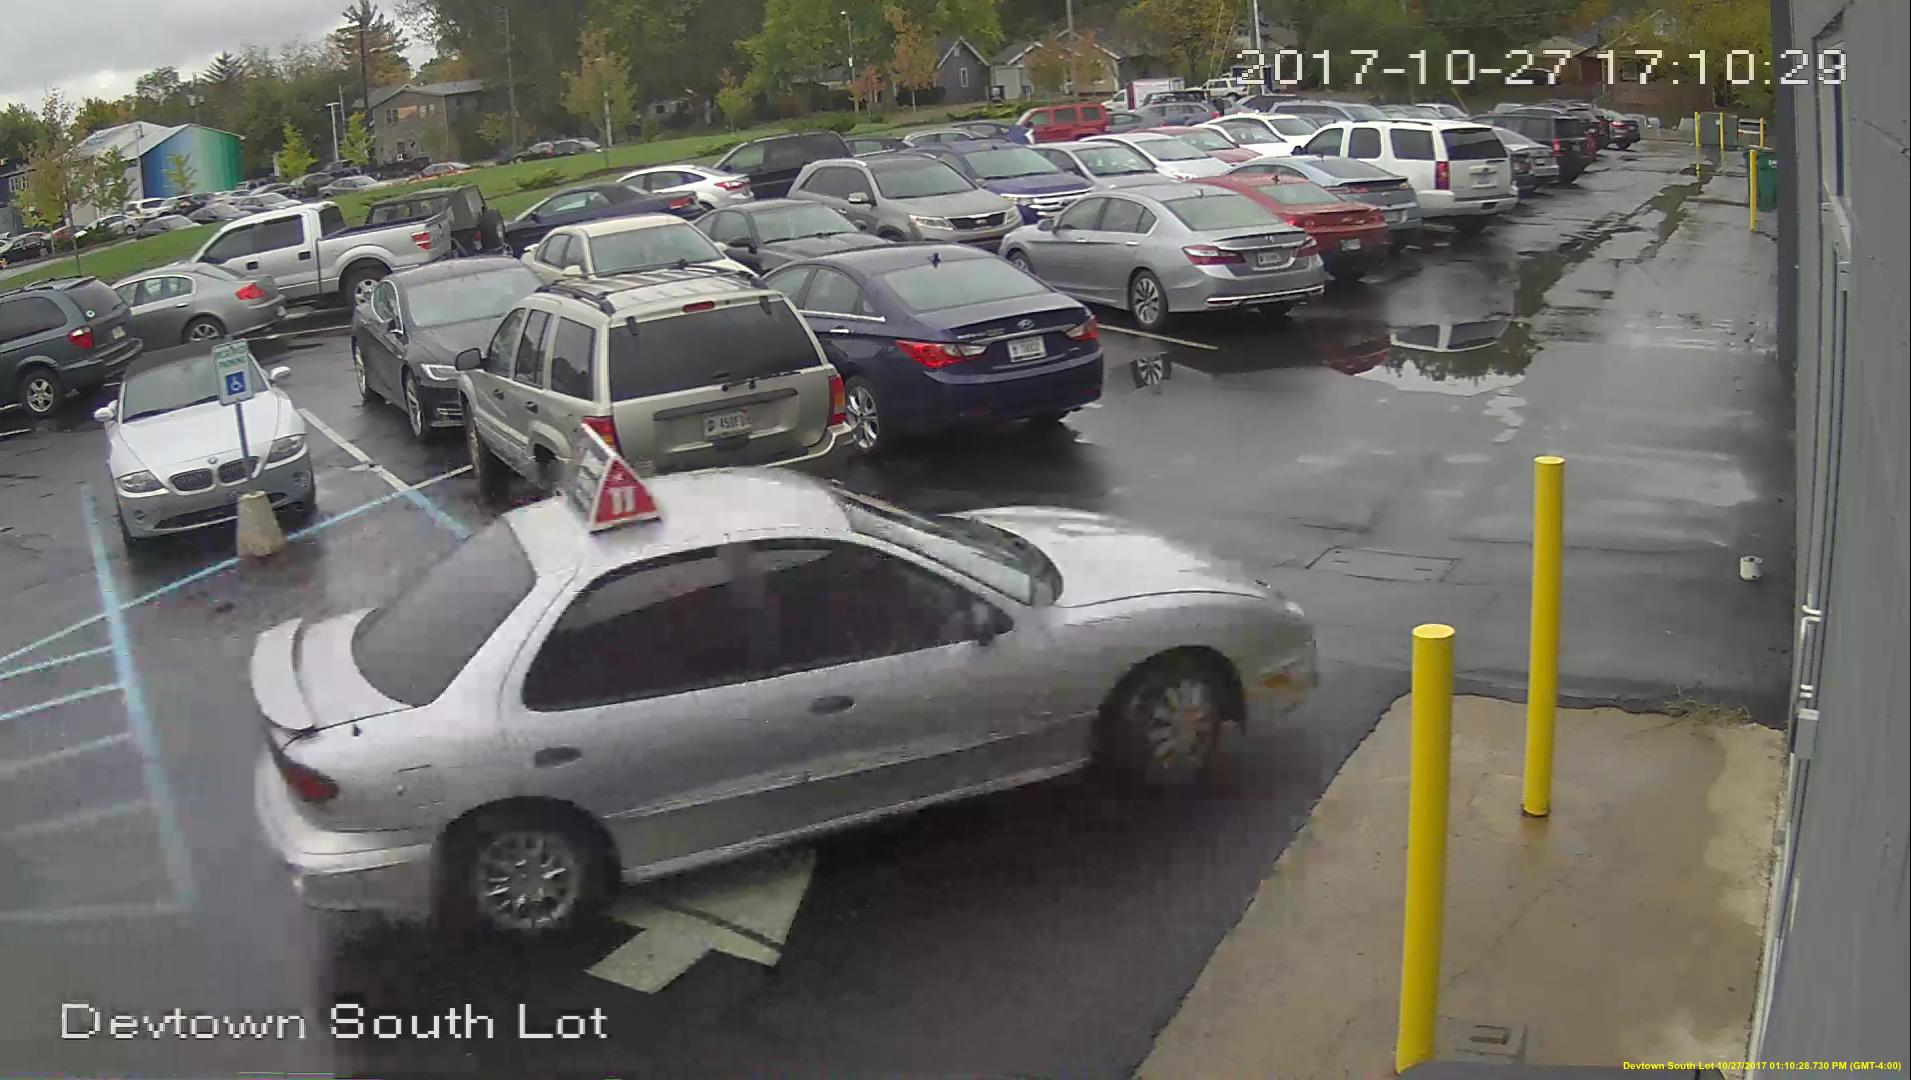jimmy_johns: (562, 423, 661, 534)
